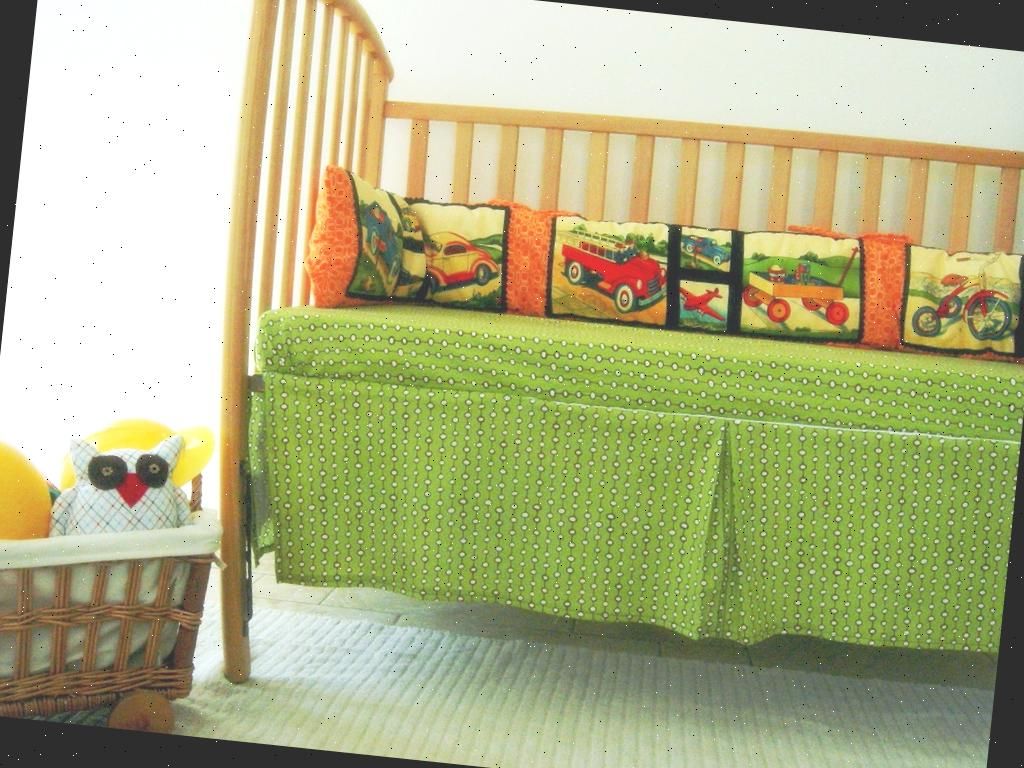Owl: (47, 424, 202, 552)
